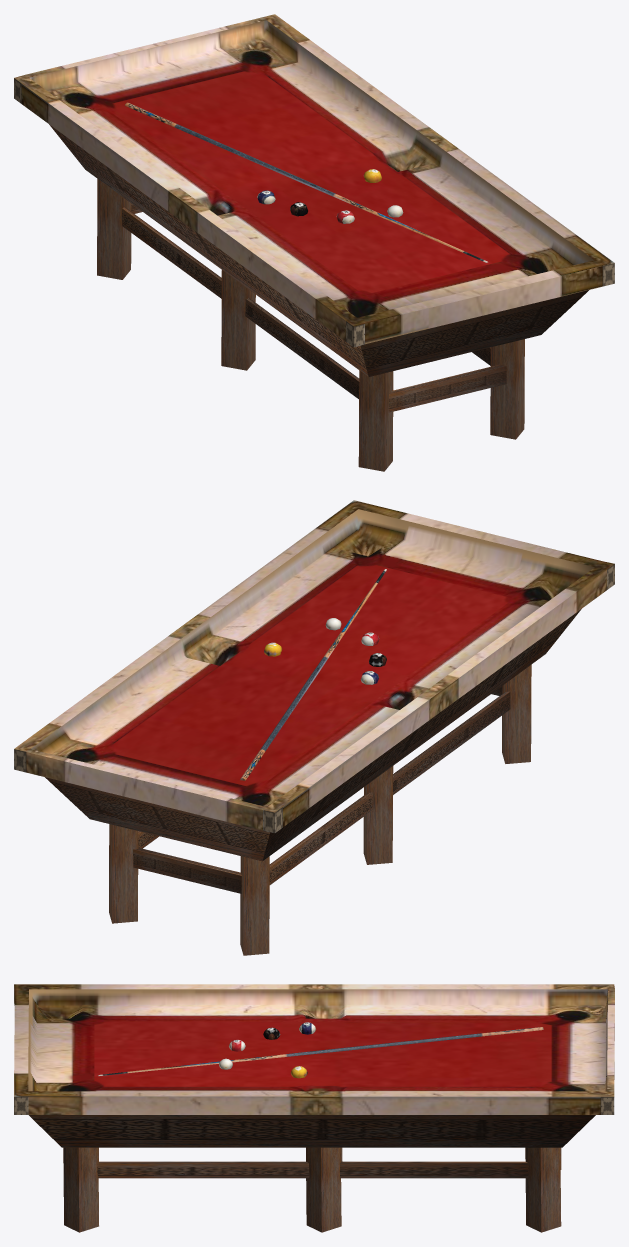
The model's file is pooltable.obj.
3 views of the same model, one above another, from view 1: azimuth 30°, elevation 25°; view 2: azimuth 150°, elevation 25°; view 3: azimuth 270°, elevation 25° (orthographic). The views are drawn at different scales.
Parts seen in each view (by area): view 1: br_pooltable; view 2: br_pooltable; view 3: br_pooltable.
Boxes of the visible parts, x1,y1,x2,y2 form: br_pooltable: (14, 14, 614, 471); br_pooltable: (14, 500, 614, 955); br_pooltable: (14, 984, 614, 1232).
Bounding box in the file's own units: 67.95 × 44.8 × 153.
Materials: 1 (1 with a texture image).
